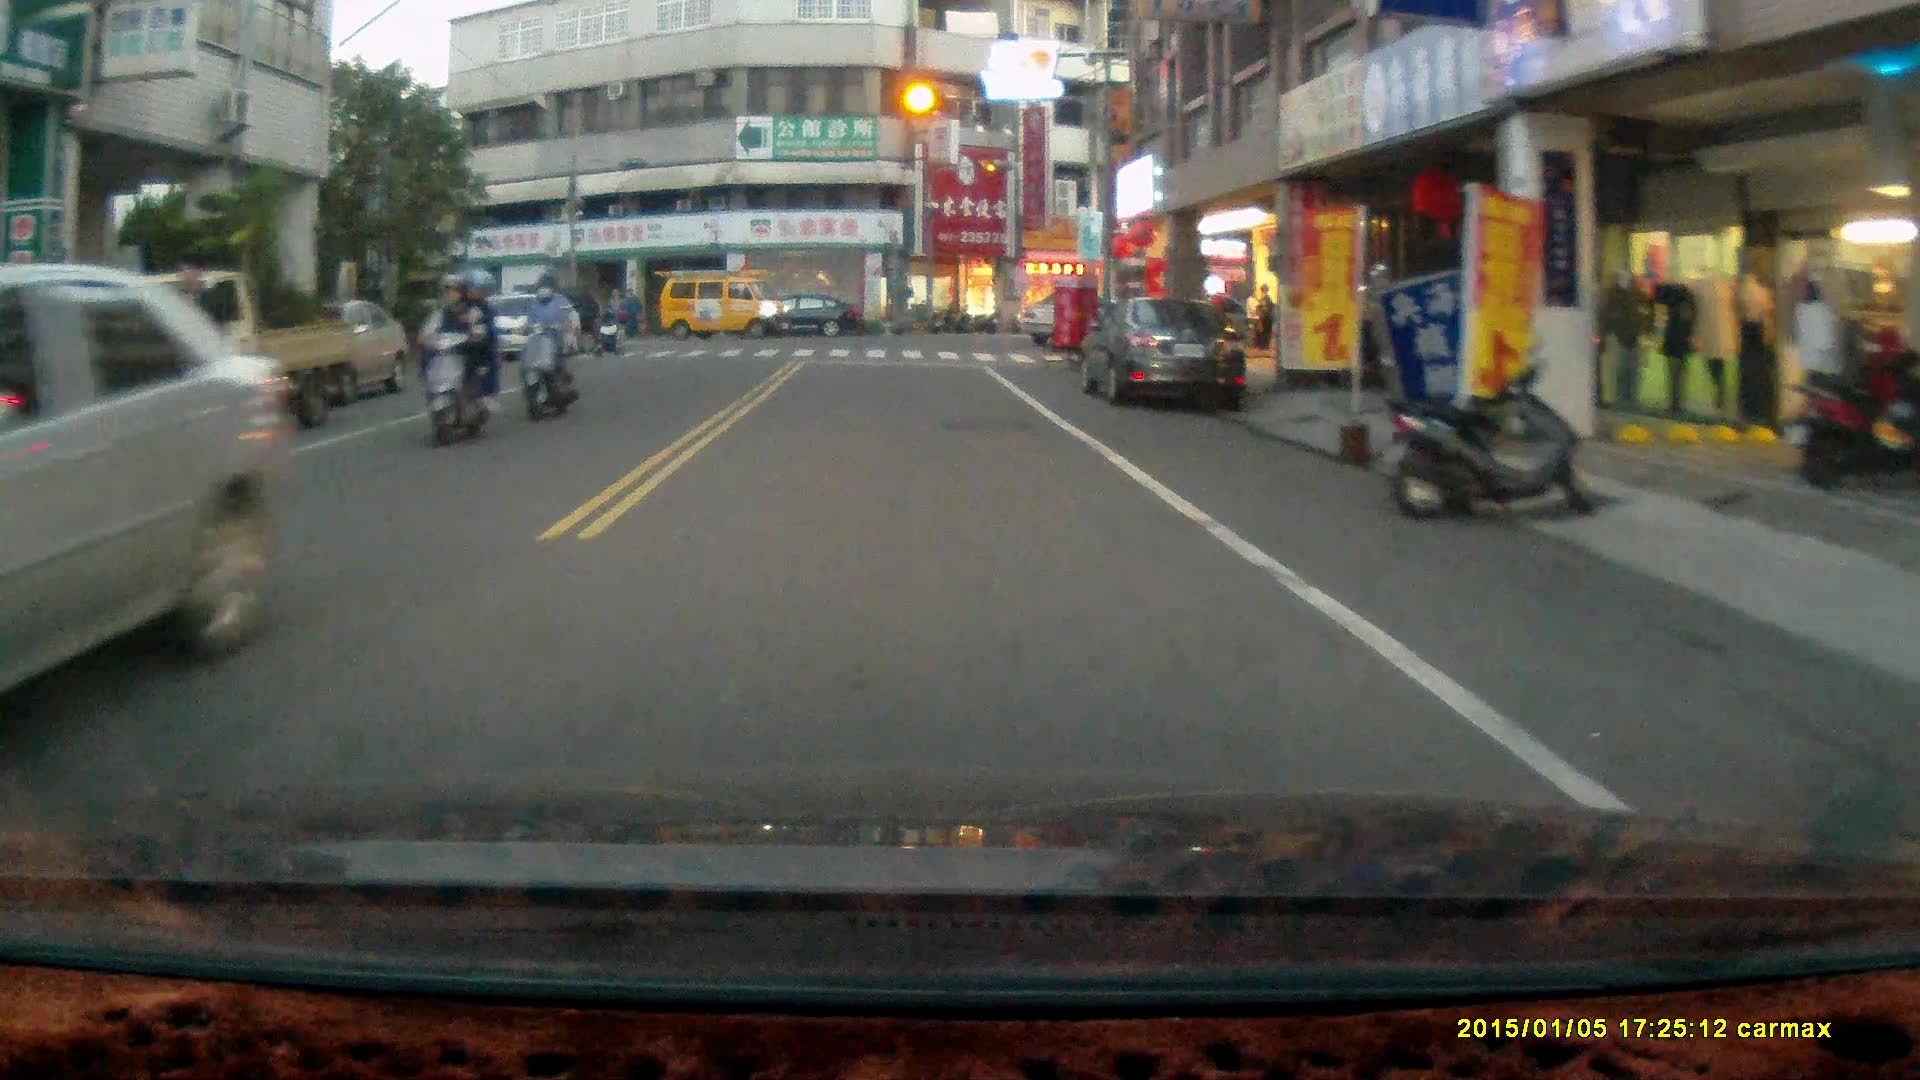pedestrian: (1252, 280, 1275, 353)
rider: (411, 267, 501, 449), (517, 272, 580, 423), (591, 306, 626, 360)
vehicle: (1072, 287, 1255, 423), (658, 267, 791, 340), (752, 291, 863, 338)
